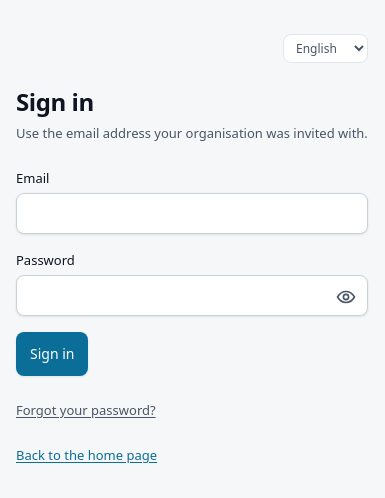
signing in › says one sentence about a rejected credential
The image size is (385, 498).
Type "ada@acme.test" into the field labelled "Email".
click(192, 213); type("ada@acme.test")  # box x1=16 y1=193 x2=368 y2=234
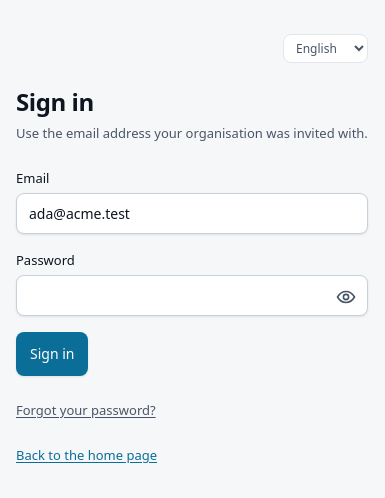
Type "wrong password here" into the password field labelled "Password".
click(192, 295); type("wrong password here")  # box x1=16 y1=275 x2=368 y2=316
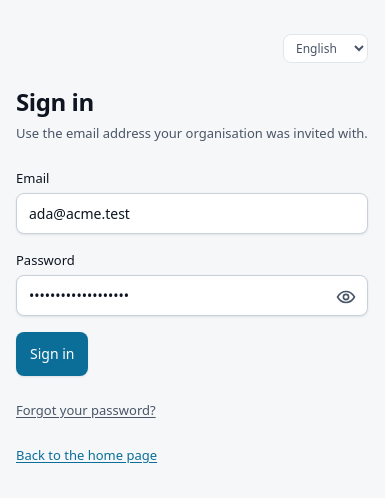
Click the button "Sign in".
click(52, 354)  # box x1=16 y1=332 x2=88 y2=376
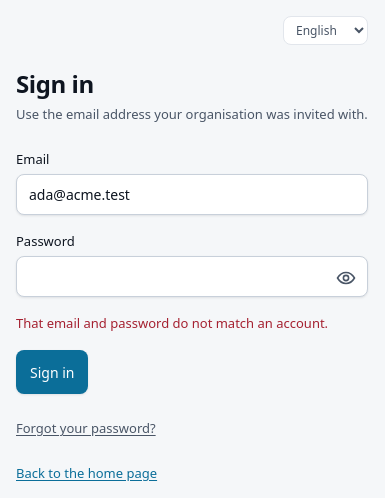
Now the message reads "That email and password do not match an account.", box x1=16 y1=314 x2=328 y2=332
